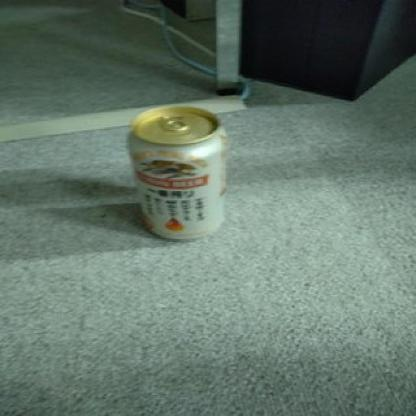Can: (126, 104, 226, 242)
